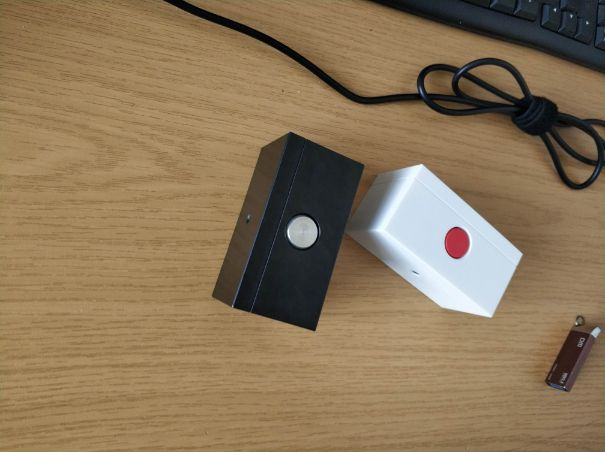black+black+silver: (209, 131, 368, 337)
white+white+red: (340, 162, 525, 321)
